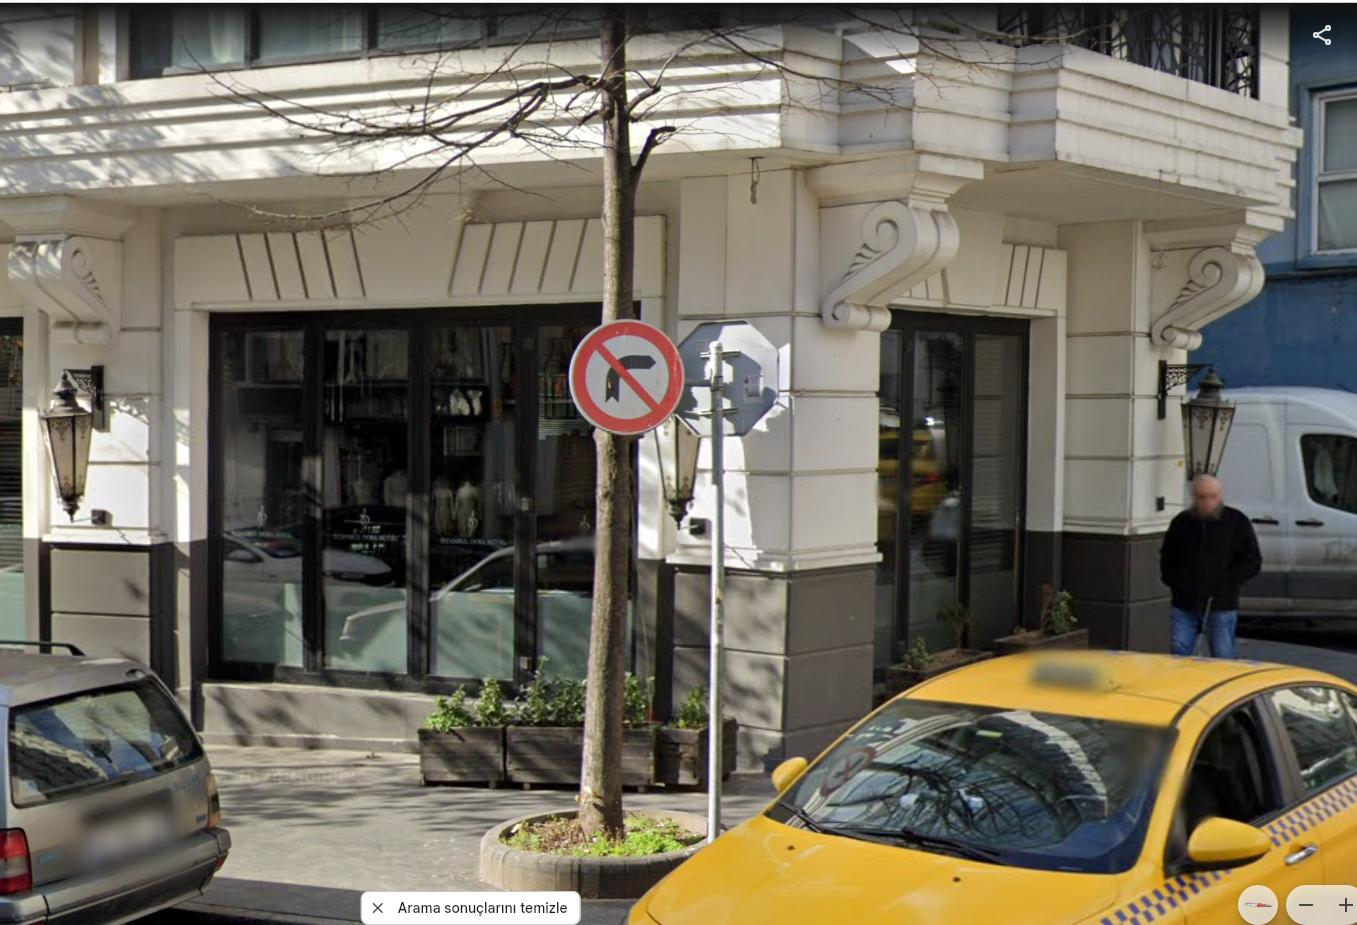rightturnsareforbidden: (574, 324, 680, 428)
